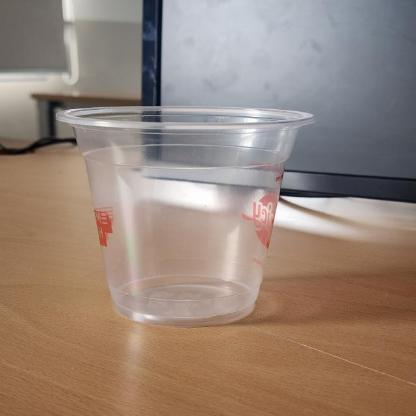Plastic Cup: (51, 103, 324, 327)
